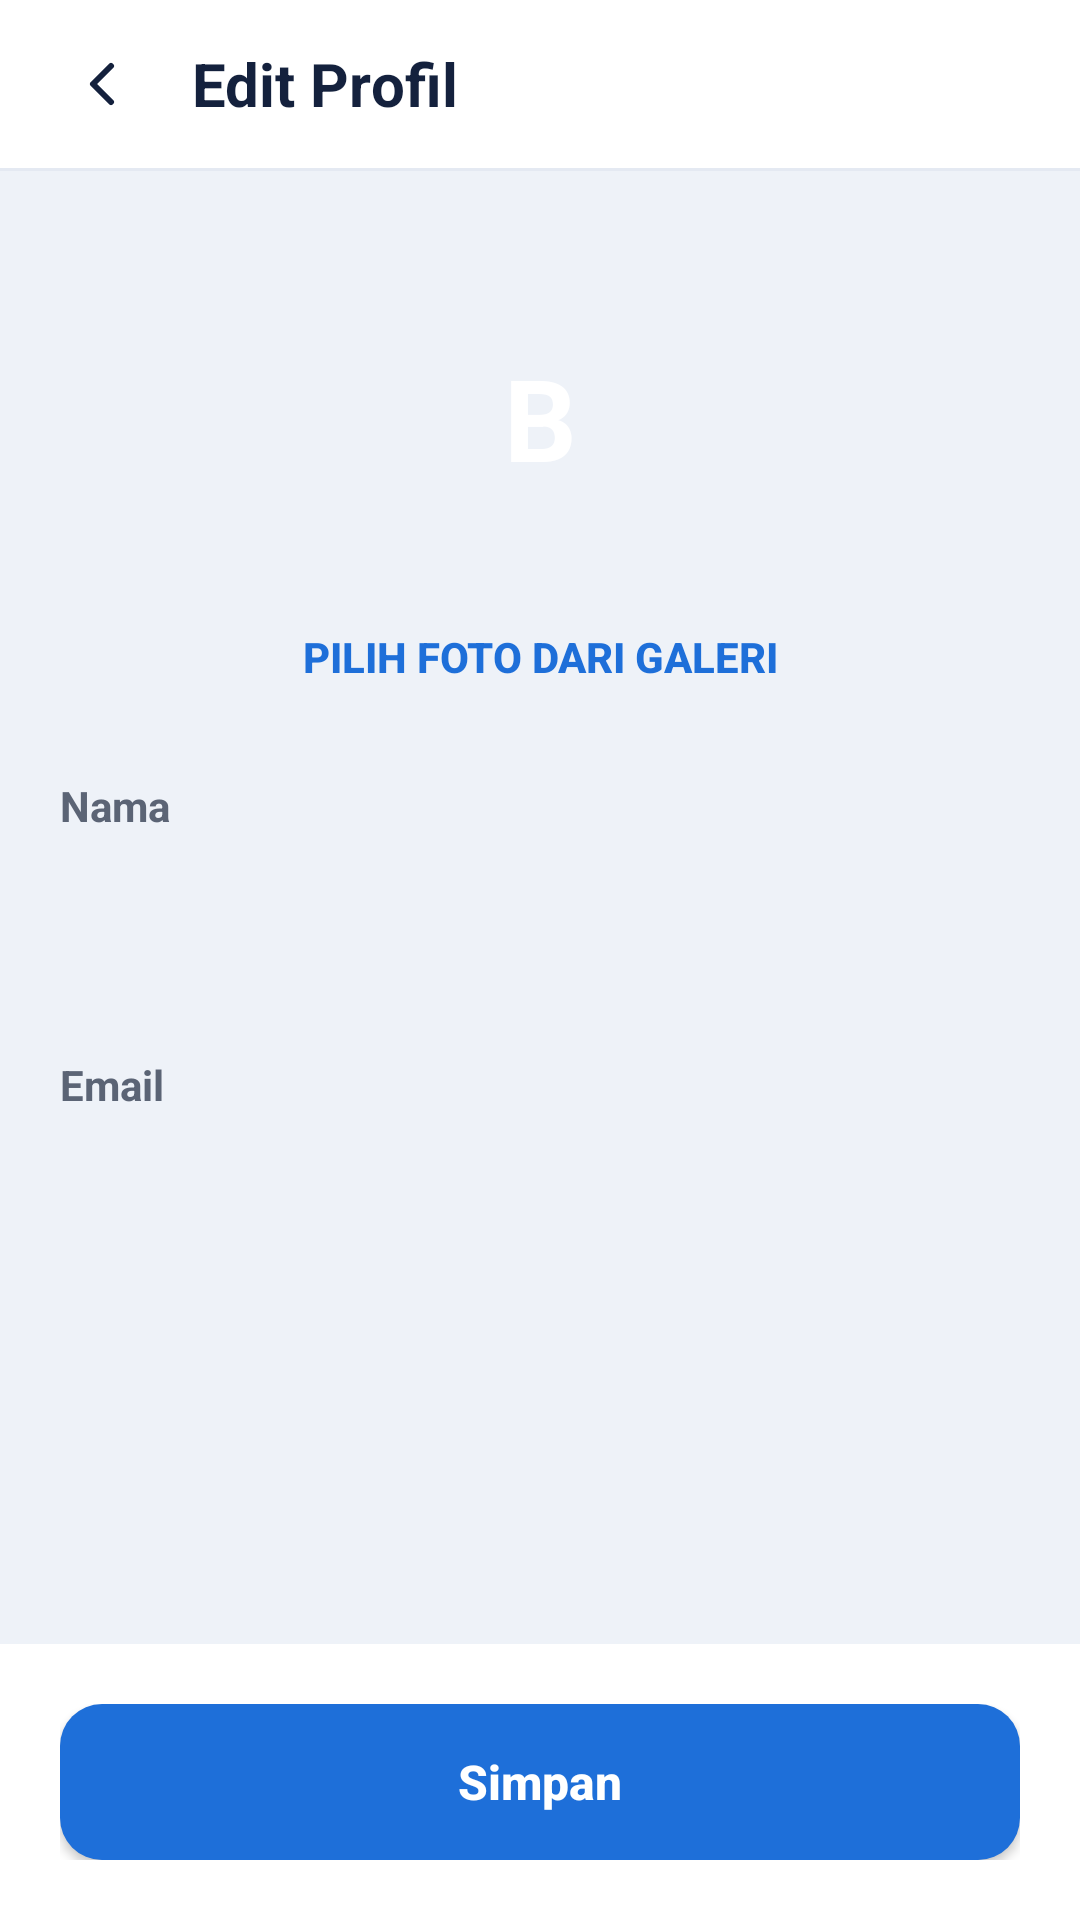

Screen size 1080px×1920px. Icon name, then its box in pixels as (x1, y1, x2, y2):
Kembali: (90, 63, 114, 105)
